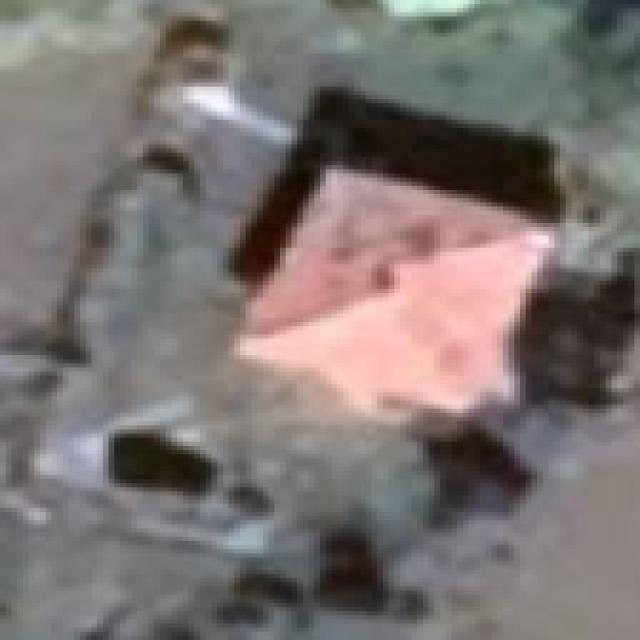Batiment: (235, 166, 554, 414)
